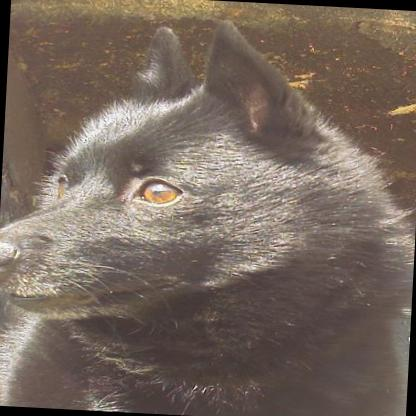schipperke: (0, 5, 416, 416)
